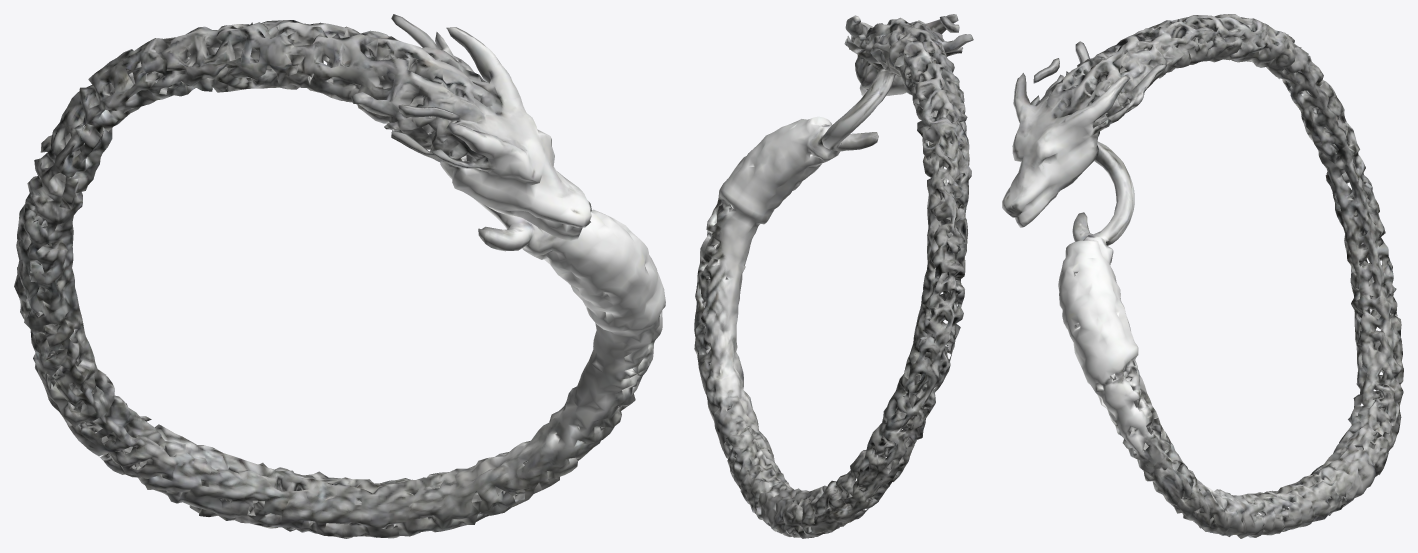
The picture shows the model from 3 angles, left to right: view 1: azimuth 30°, elevation 25°; view 2: azimuth 150°, elevation 25°; view 3: azimuth 270°, elevation 25°; orthographic projection. The views are drawn at different scales.
Bounding box in the file's own units: 1.69 × 2 × 1.6.
1 material, 1 textured.
